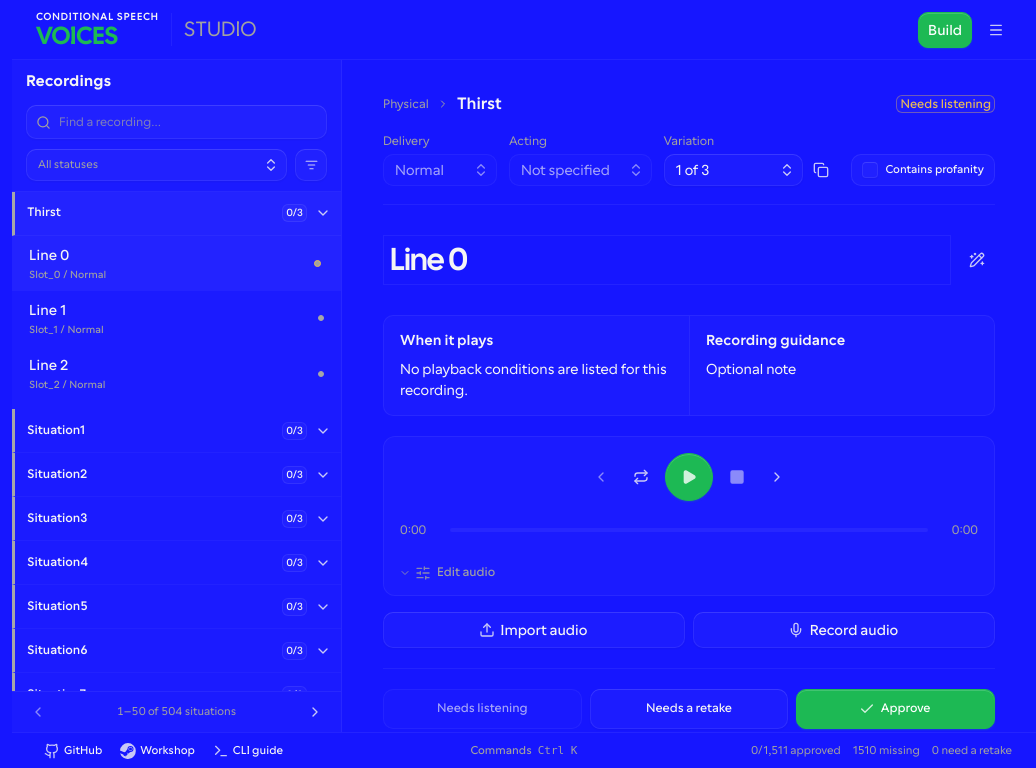
approves and advances without reloading the project
Expected: the text box showing "Line 0" is shown, [383, 235, 951, 285]
What coordinates should you click on to do the following:
click the button "Approve"
I would click on:
 (896, 709)
Its box is [796, 689, 995, 729].
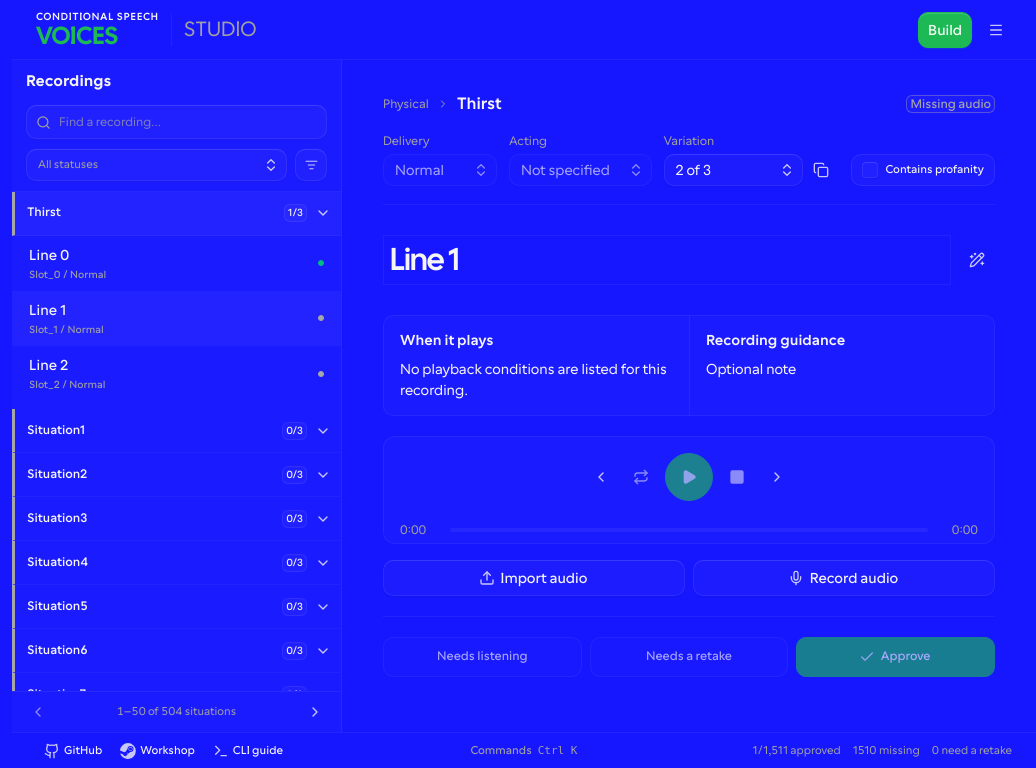
Expected: the button "Line 0 Slot_0 / Normal" is shown, [12, 236, 341, 291]
Expected: the text box showing "Line 1" is shown, [383, 235, 951, 285]
